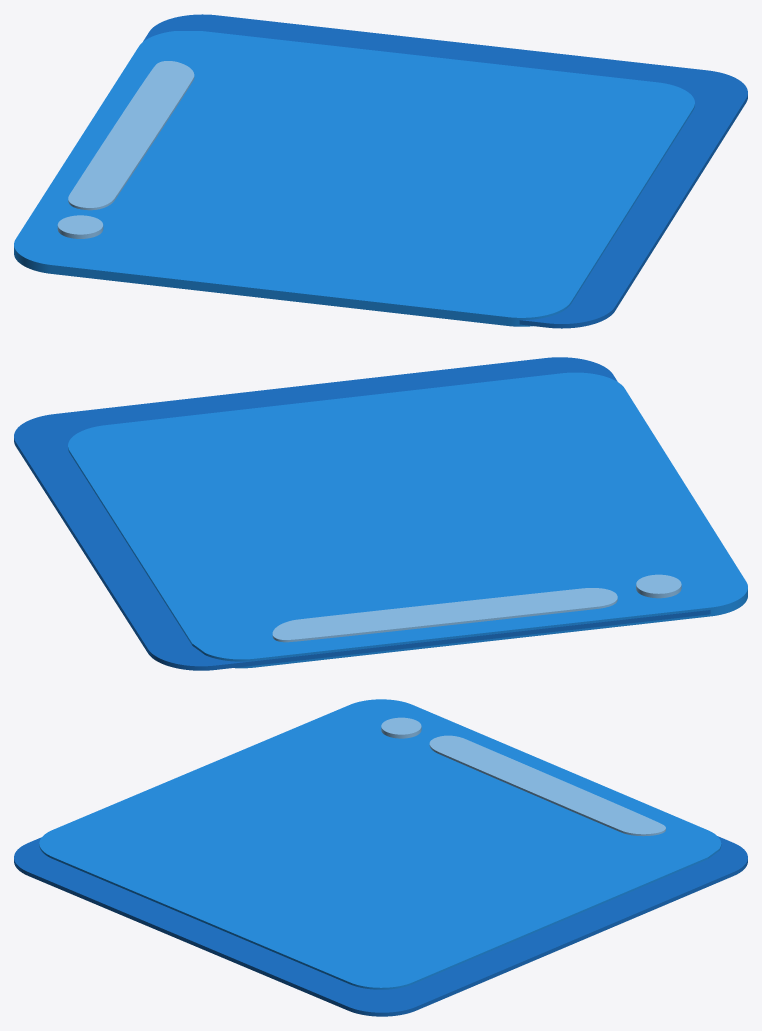
File: emoji_u1f537.glb
3 views of the same model, one above another, from view 1: azimuth 30°, elevation 25°; view 2: azimuth 150°, elevation 25°; view 3: azimuth 270°, elevation 25° (orthographic). The views are drawn at different scales.
Parts seen in each view (by area): view 1: emoji_u1f537; view 2: emoji_u1f537; view 3: emoji_u1f537.
Part boxes in pixels (x1=…): emoji_u1f537: x1=14, y1=14, x2=747, y2=328; emoji_u1f537: x1=14, y1=357, x2=747, y2=670; emoji_u1f537: x1=14, y1=699, x2=747, y2=1016.
Size of the model in its own units: 0.034 by 0.0008 by 0.0339.
